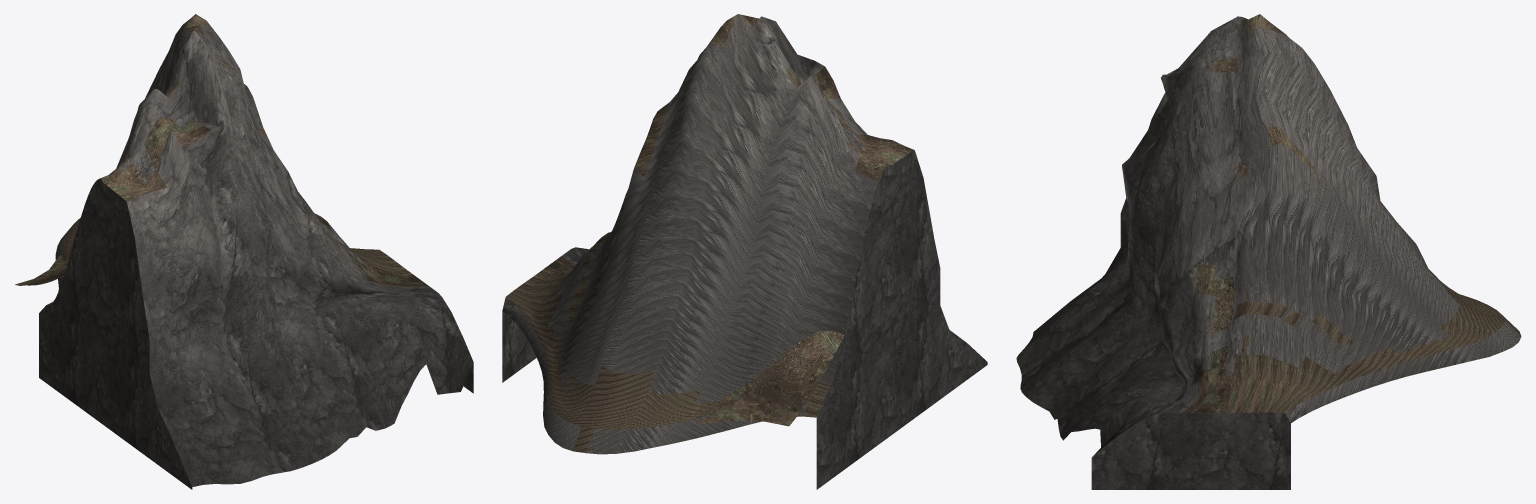
The model's file is seacliff_endcap_right_h3_a_v5_autumn.glb.
3 renders of one model, left to right at view 1: azimuth 30°, elevation 25°; view 2: azimuth 150°, elevation 25°; view 3: azimuth 270°, elevation 25°, orthographic. The views are drawn at different scales.
Visible parts, largest first — view 1: seacliff_endcap_right_h3_a; view 2: seacliff_endcap_right_h3_a; view 3: seacliff_endcap_right_h3_a.
Part boxes in pixels (x1,y1,x2,y2): seacliff_endcap_right_h3_a: [15, 14, 473, 489]; seacliff_endcap_right_h3_a: [502, 14, 987, 489]; seacliff_endcap_right_h3_a: [1016, 14, 1521, 489].
Bounding box in the file's own units: 6 × 6.81 × 8.25.
2 materials, 2 textured.
